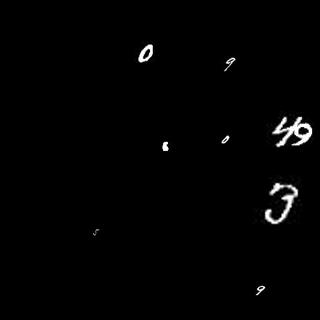five: (91, 226, 101, 238)
four: (270, 114, 301, 150)
nine: (292, 122, 313, 149), (252, 281, 268, 299), (223, 54, 236, 71)
three: (260, 184, 297, 224)
zero: (136, 40, 155, 66), (219, 130, 233, 143)
